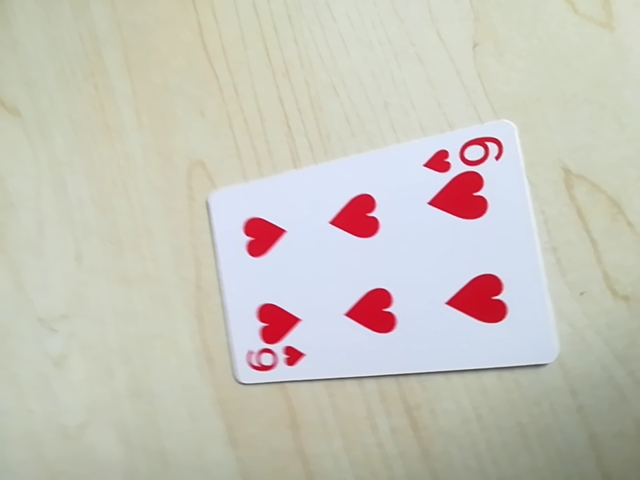hx 6: (421, 130, 504, 173), (243, 343, 307, 381)
